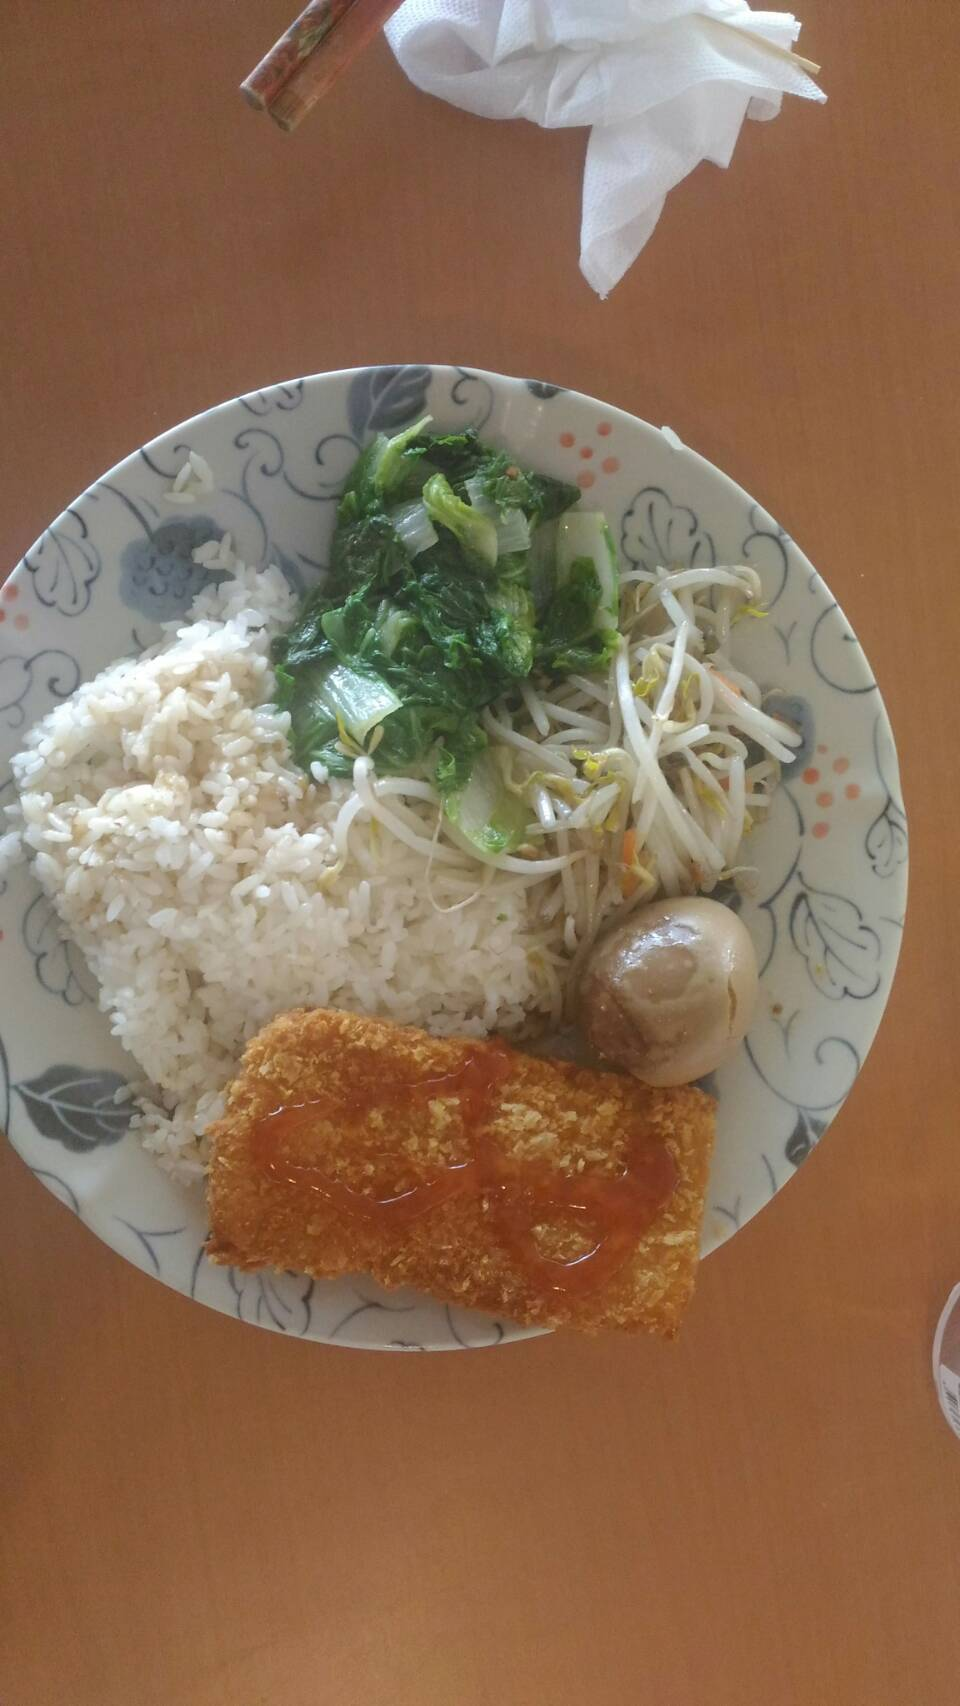mung_bean_sprouts: (547, 633, 747, 864)
rice: (52, 603, 320, 1011)
triangle_hash_brown: (275, 1016, 687, 1309)
